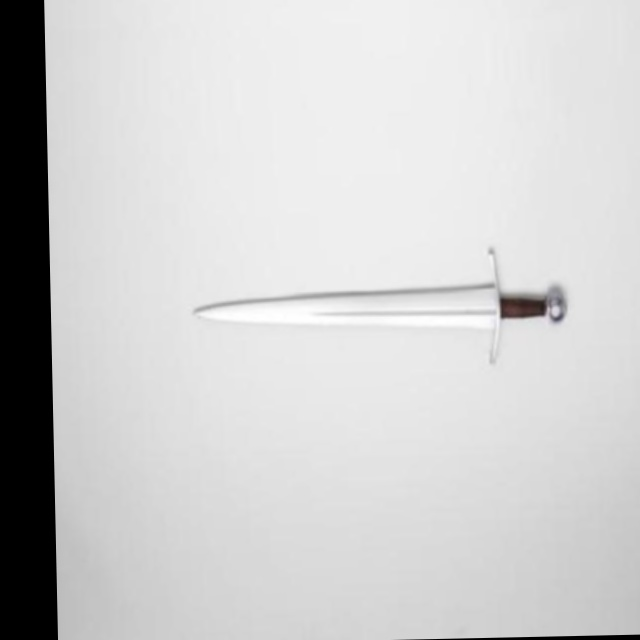Sharp-Object: (188, 275, 575, 330)
